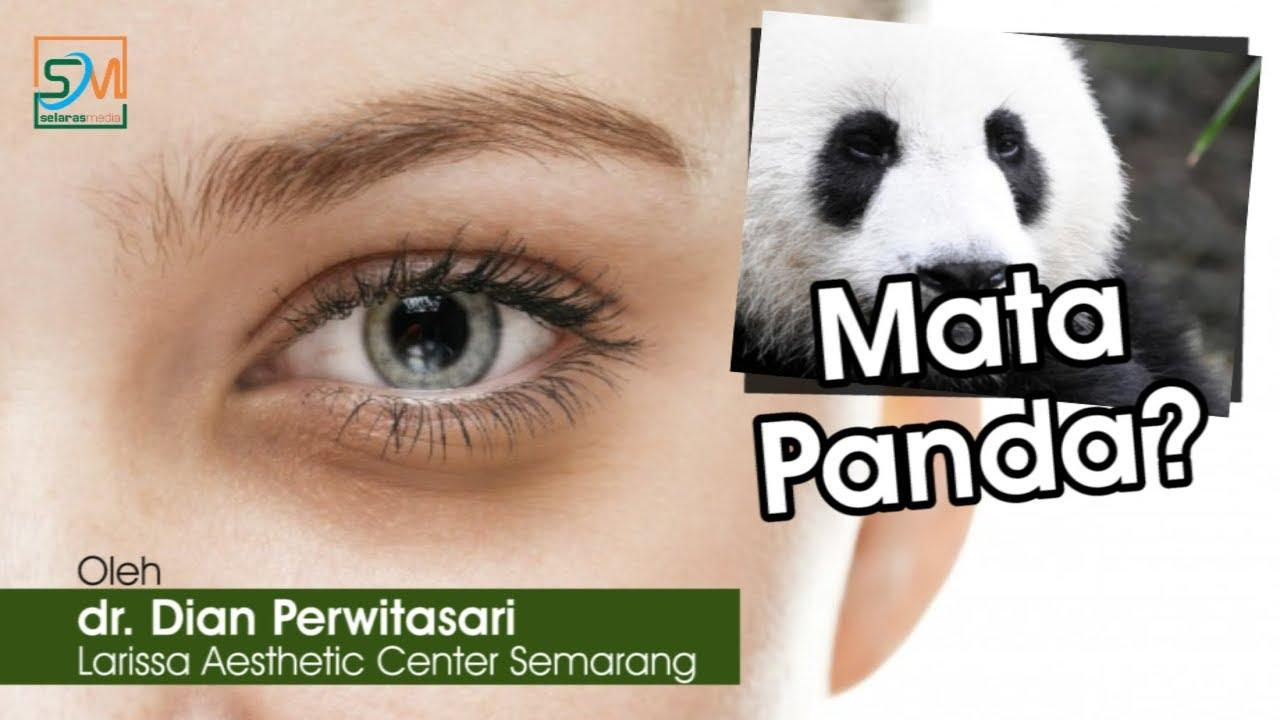Eyebags: (197, 342, 629, 558)
